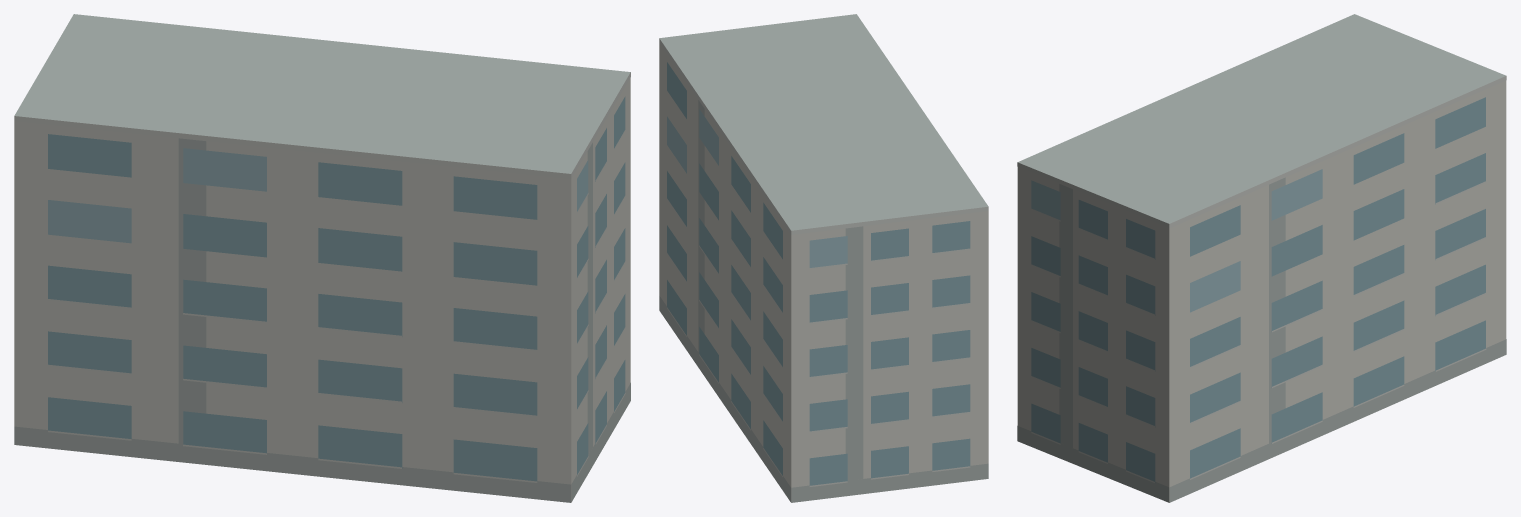
The model's file is residential-5f2d08fa-6ddd-47f6-963a-a8826d1a0fa1.glb.
3 views of the same model, side by side, from view 1: azimuth 30°, elevation 25°; view 2: azimuth 150°, elevation 25°; view 3: azimuth 270°, elevation 25° (orthographic). The views are drawn at different scales.
Parts seen in each view (by area): view 1: residential-5f2d08fa-6ddd-47f6-963a-a8826d1a0fa1.tmp; view 2: residential-5f2d08fa-6ddd-47f6-963a-a8826d1a0fa1.tmp; view 3: residential-5f2d08fa-6ddd-47f6-963a-a8826d1a0fa1.tmp.
Part boxes in pixels (left/top/right/bottom): residential-5f2d08fa-6ddd-47f6-963a-a8826d1a0fa1.tmp: left=14, top=14, right=630, bottom=502; residential-5f2d08fa-6ddd-47f6-963a-a8826d1a0fa1.tmp: left=659, top=14, right=988, bottom=502; residential-5f2d08fa-6ddd-47f6-963a-a8826d1a0fa1.tmp: left=1017, top=14, right=1506, bottom=502.
Size of the model in its own units: 24.62 by 15.25 by 24.23.
